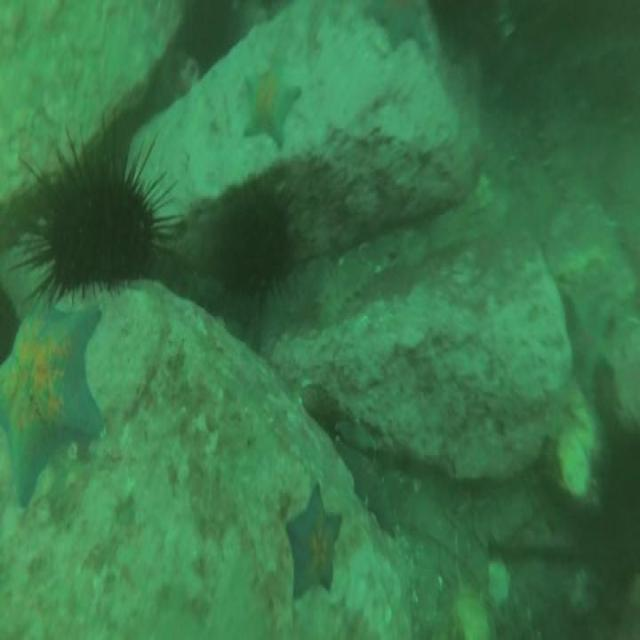echinus: (13, 117, 170, 302), (214, 178, 300, 310), (594, 411, 640, 611), (178, 0, 236, 71)
holothurian: (314, 254, 373, 330)
starfish: (0, 298, 114, 511), (333, 428, 399, 545), (284, 485, 342, 605), (236, 65, 302, 147)
